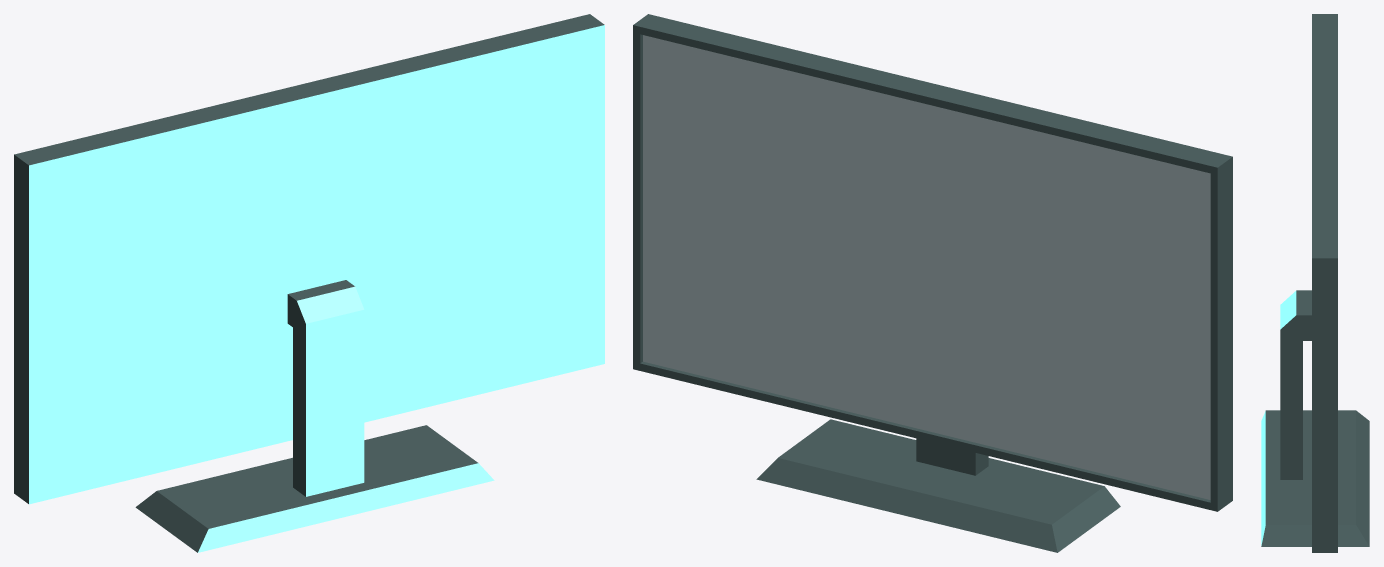
Rendered from tv-flat.glb.
3 views of the same model, side by side, from view 1: azimuth 30°, elevation 25°; view 2: azimuth 150°, elevation 25°; view 3: azimuth 270°, elevation 25° (orthographic). The views are drawn at different scales.
Parts seen in each view (by area): view 1: televisionModern; view 2: televisionModern; view 3: televisionModern.
Part boxes in pixels (x1,y1,x2,y2): televisionModern: [14, 14, 604, 552]; televisionModern: [633, 14, 1232, 552]; televisionModern: [1261, 14, 1369, 552].
Size of the model in its own units: 0.6848 by 0.4547 by 0.1284.
